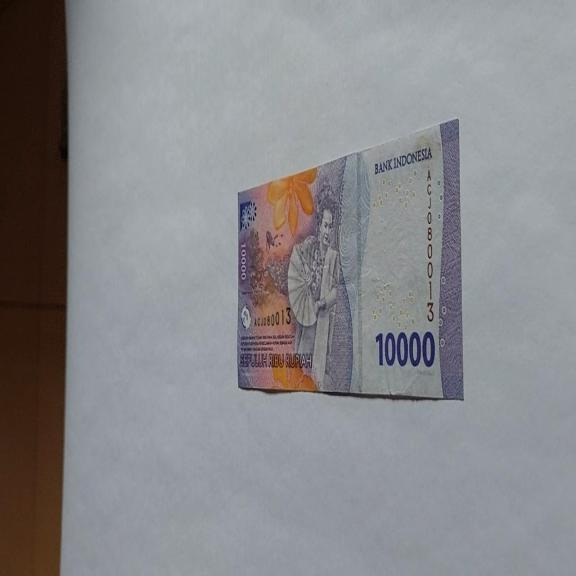Kertas: (236, 117, 463, 401), (374, 329, 436, 369)
